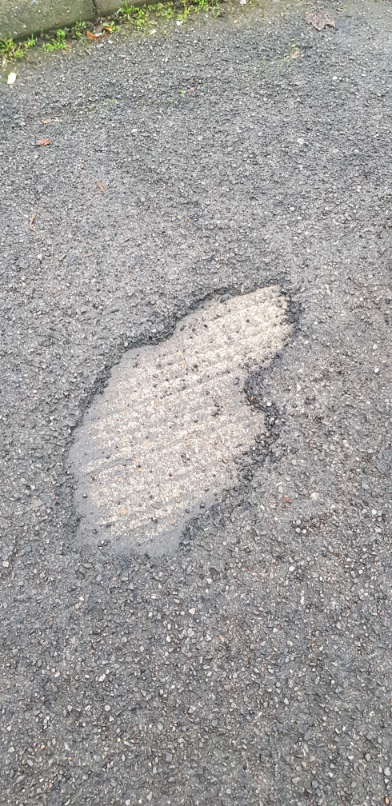pothole: (58, 274, 304, 568)
